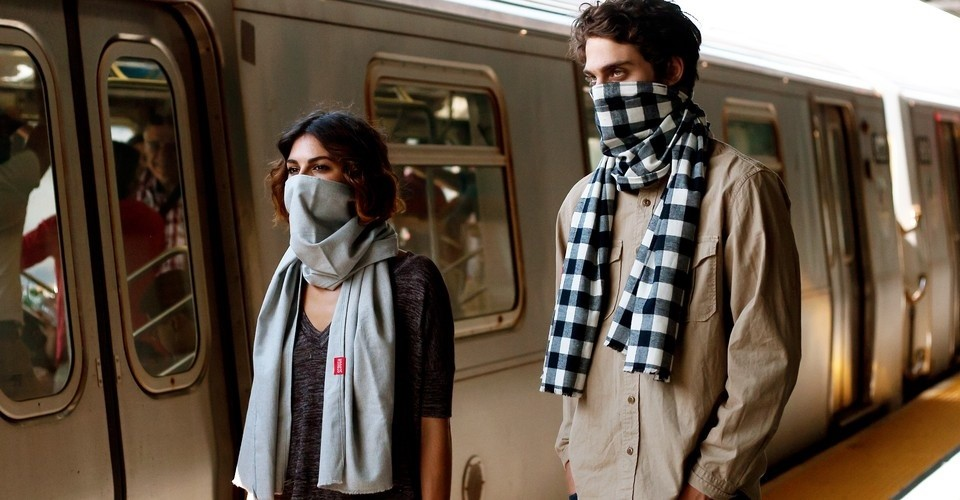face_with_mask: (577, 24, 694, 154), (276, 122, 378, 264)
